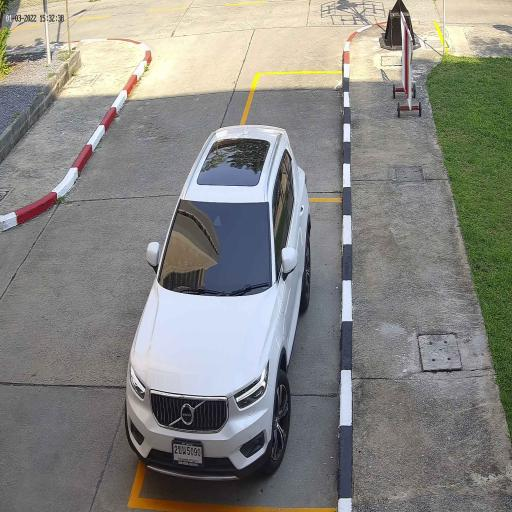car: (124, 122, 313, 484)
